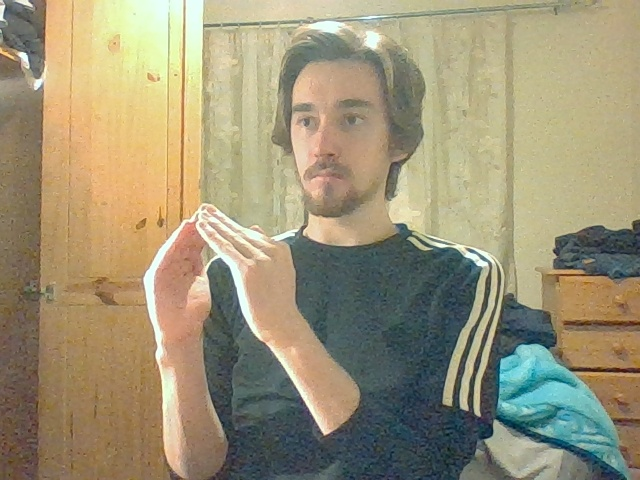home: (143, 202, 295, 296)
